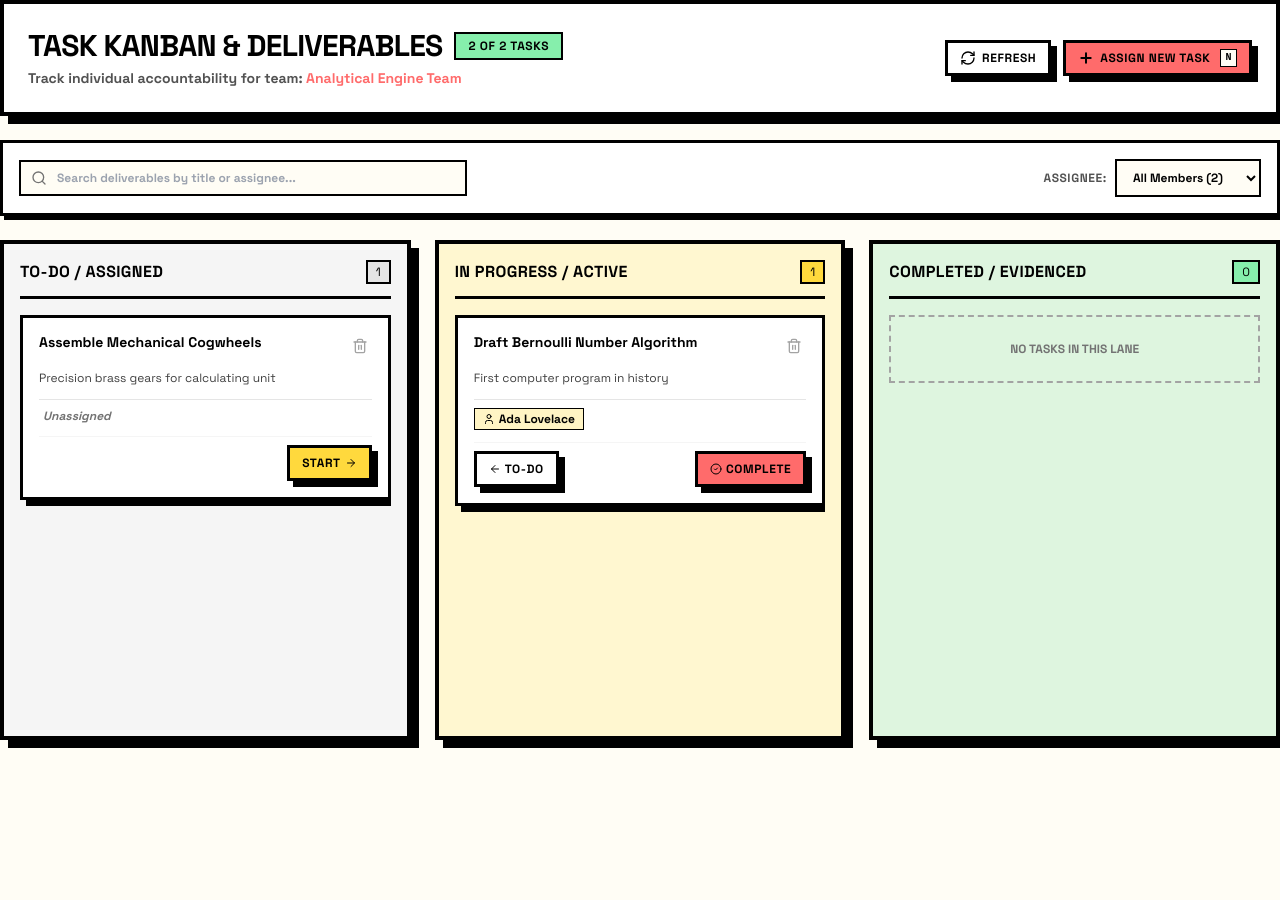
Phases 3-5: Tasks, Courtroom Cases, Voting, Verdicts, and Public Dossier UI › <TaskBoard /> › renders Kanban board with To-Do and In-Progress task items
The image size is (1280, 900).
Expected: the heading "Draft Bernoulli Number Algorithm" is shown, [474, 334, 698, 352]
Expected: the heading "Assemble Mechanical Cogwheels" is shown, [39, 334, 262, 352]
# Test deliverable search filtering
Step 1. Type "Bernoulli" into the field with placeholder "Search deliverables by title or assignee..." → (243, 178), box [19, 160, 467, 196]
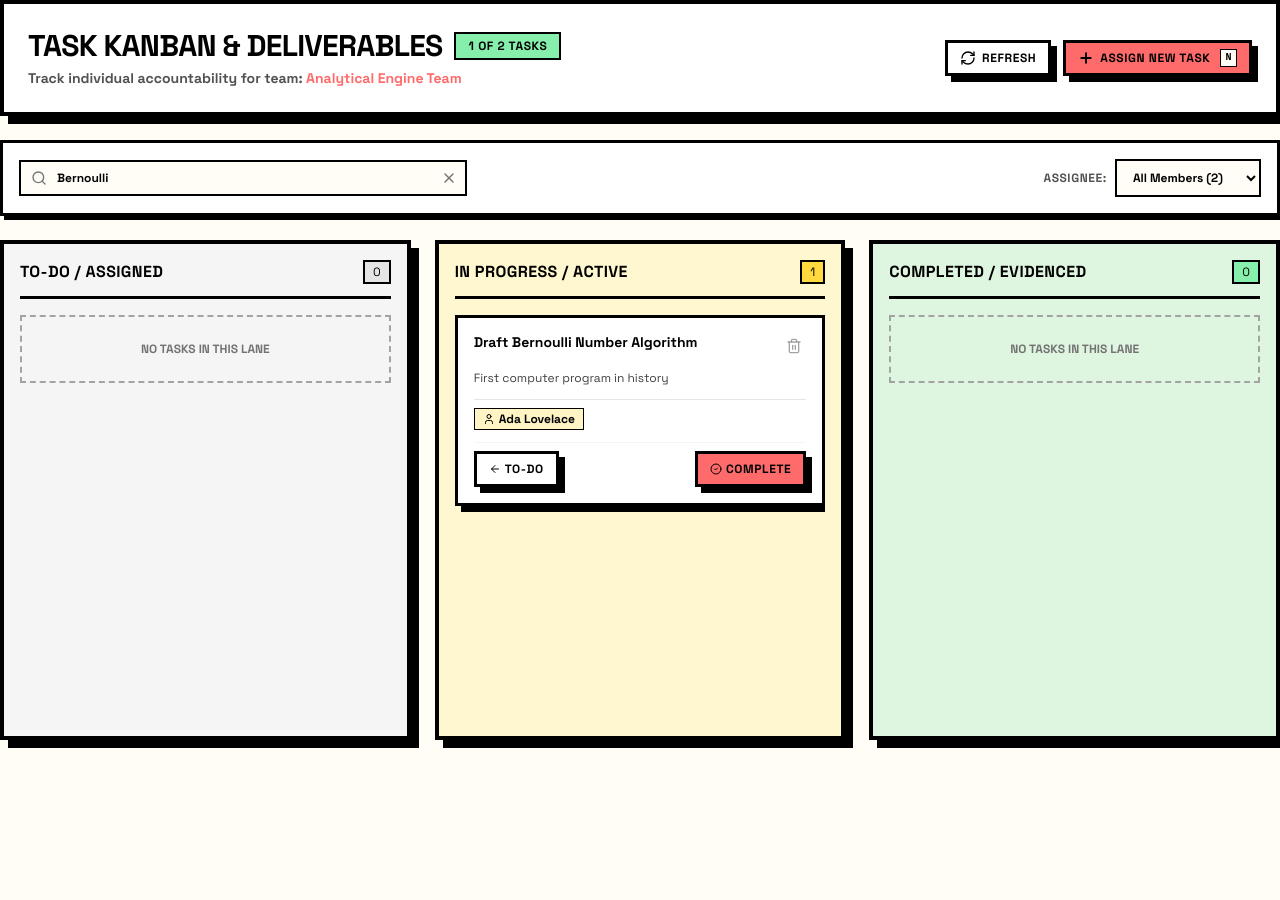
Expected: the heading "Draft Bernoulli Number Algorithm" is shown, [474, 334, 698, 352]
Expected: the heading "Assemble Mechanical Cogwheels" is gone
# Clear search
Step 2. Clear the field with placeholder "Search deliverables by title or assignee..." → (243, 178), box [19, 160, 467, 196]
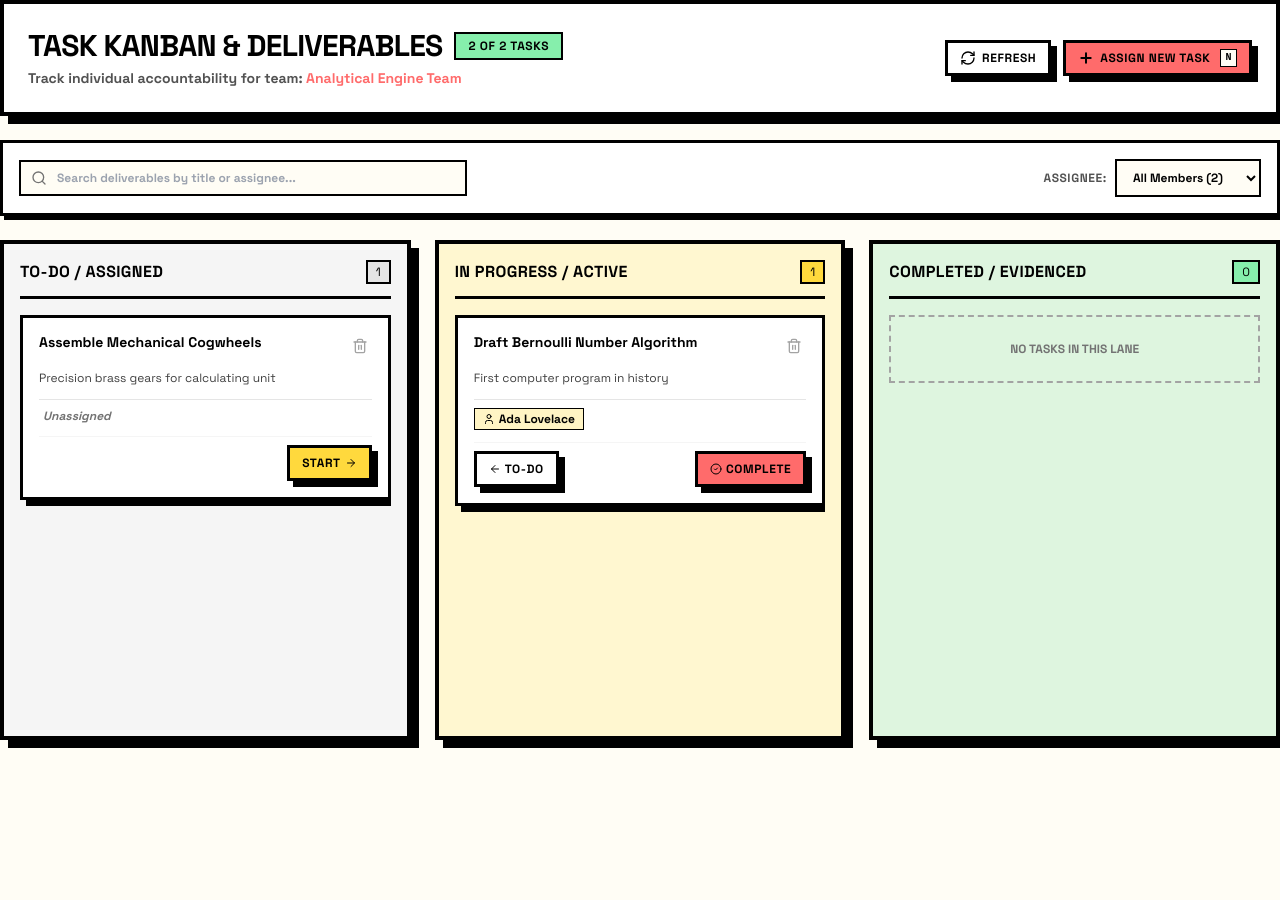
Expected: the heading "Assemble Mechanical Cogwheels" is shown, [39, 334, 262, 352]
